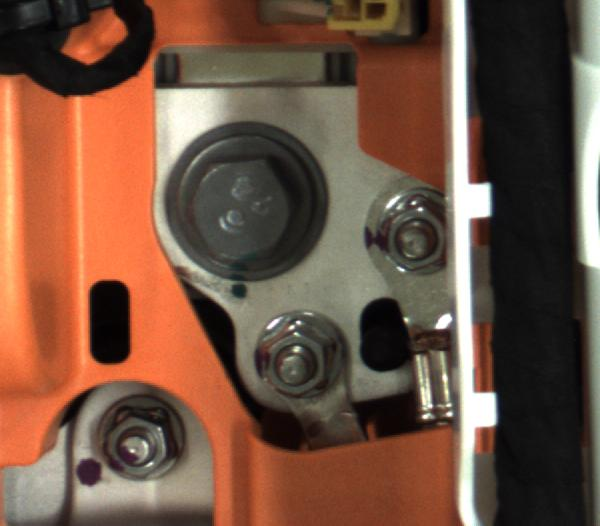nut_b: (168, 121, 330, 287)
screw_s: (258, 312, 361, 407), (106, 394, 197, 489), (378, 189, 458, 285)
